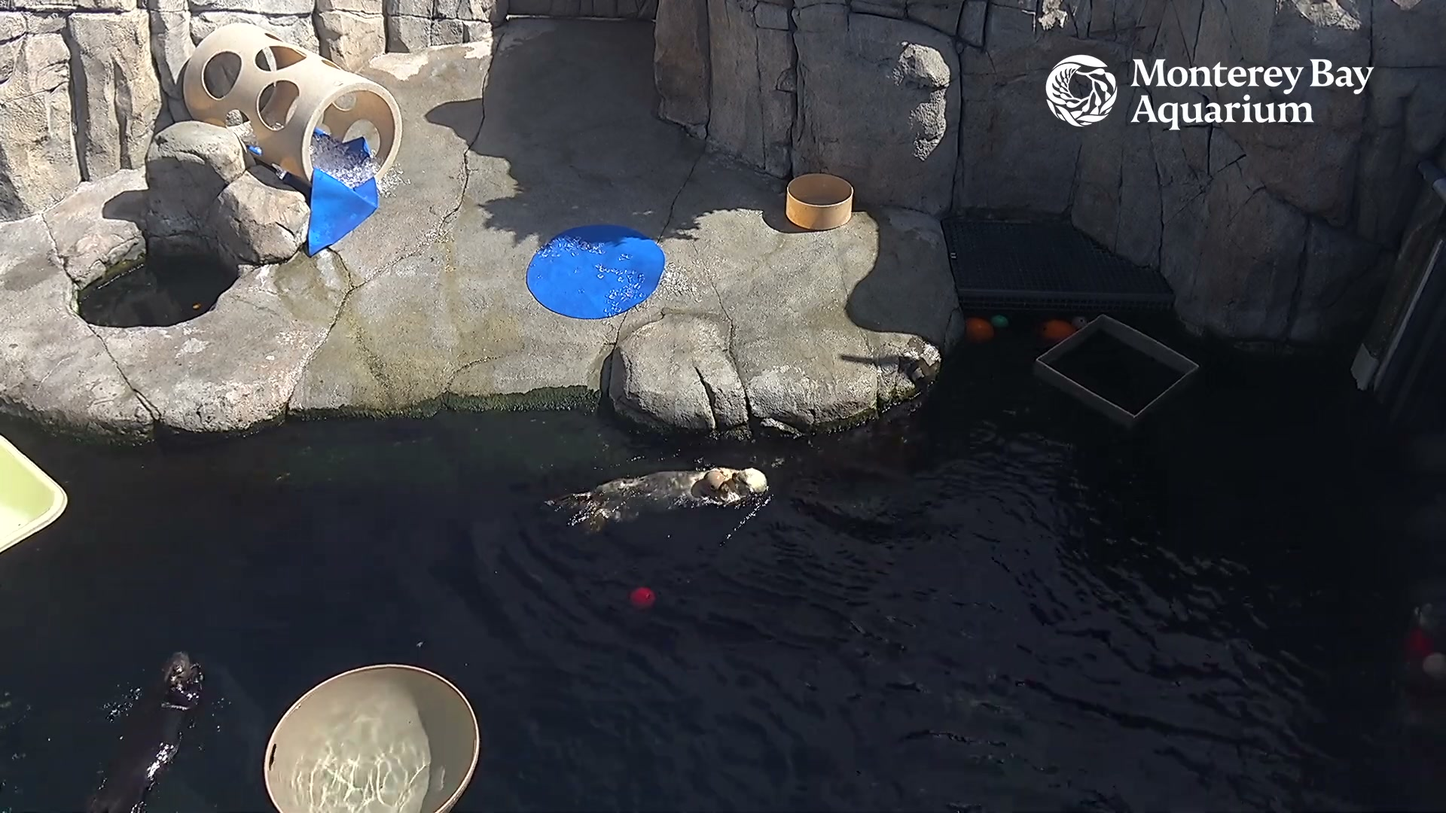Southern Sea Otter: (508, 448, 798, 549)
